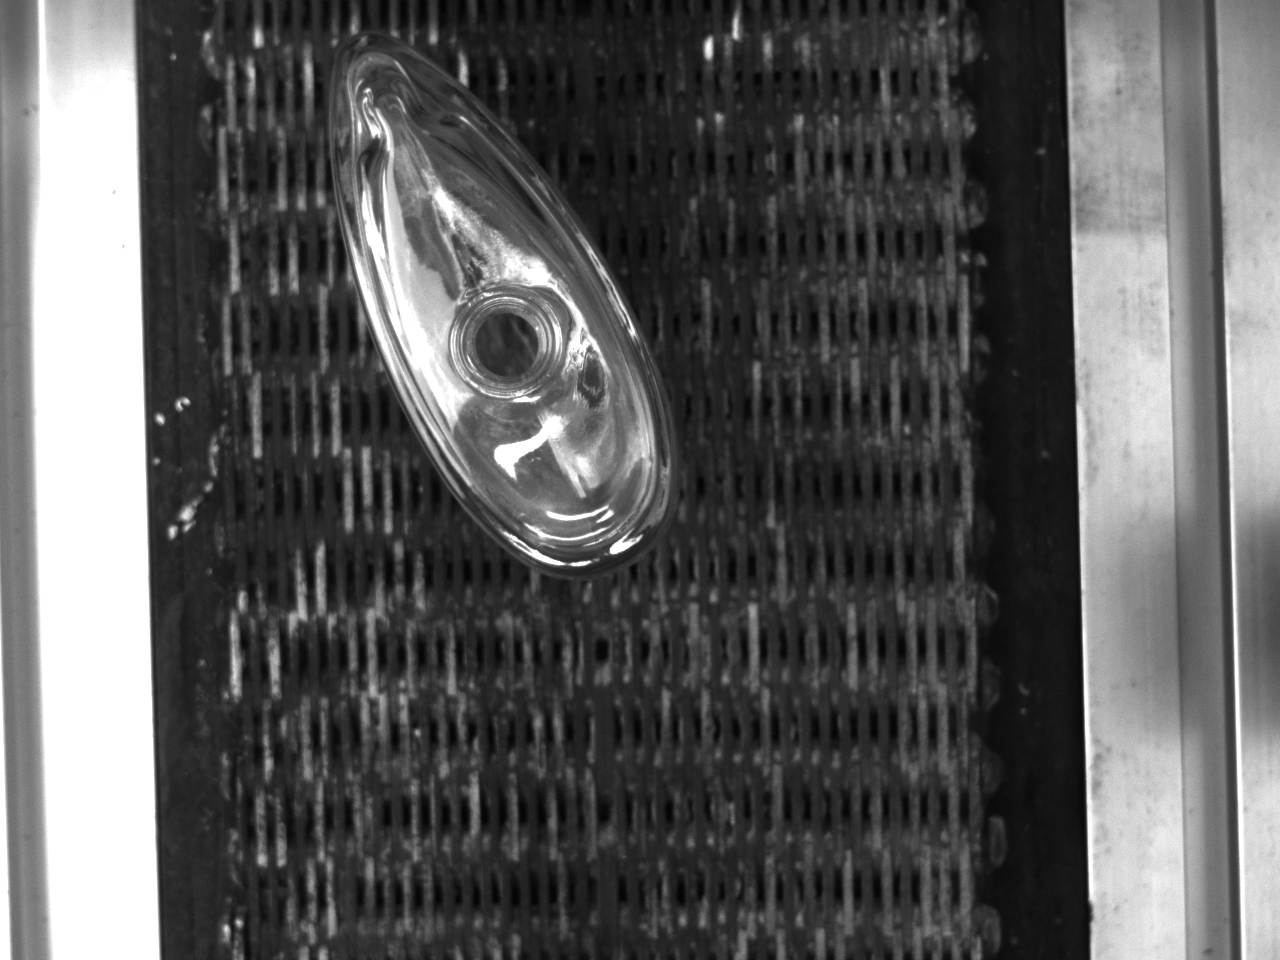bottleneck: (452, 289, 562, 399)
